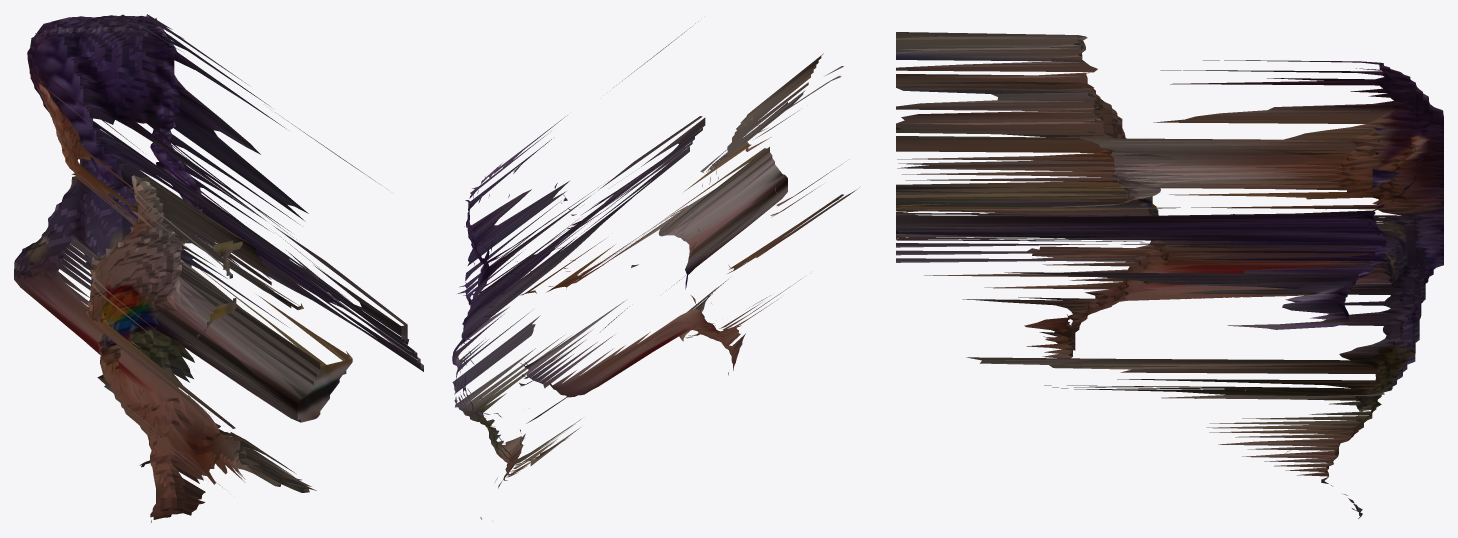
Rendered from frame_00280.glb.
3 renders of one model, left to right at view 1: azimuth 30°, elevation 25°; view 2: azimuth 150°, elevation 25°; view 3: azimuth 270°, elevation 25°, orthographic. The views are drawn at different scales.
Parts seen in each view (by area): view 1: geometry_0; view 2: geometry_0; view 3: geometry_0.
Part boxes in pixels (x1,y1,x2,y2): geometry_0: [14, 14, 423, 522]; geometry_0: [452, 21, 859, 519]; geometry_0: [896, 32, 1443, 518].
Size of the model in its own units: 0.0822 by 0.1335 by 0.16.
1 material, 1 textured.
